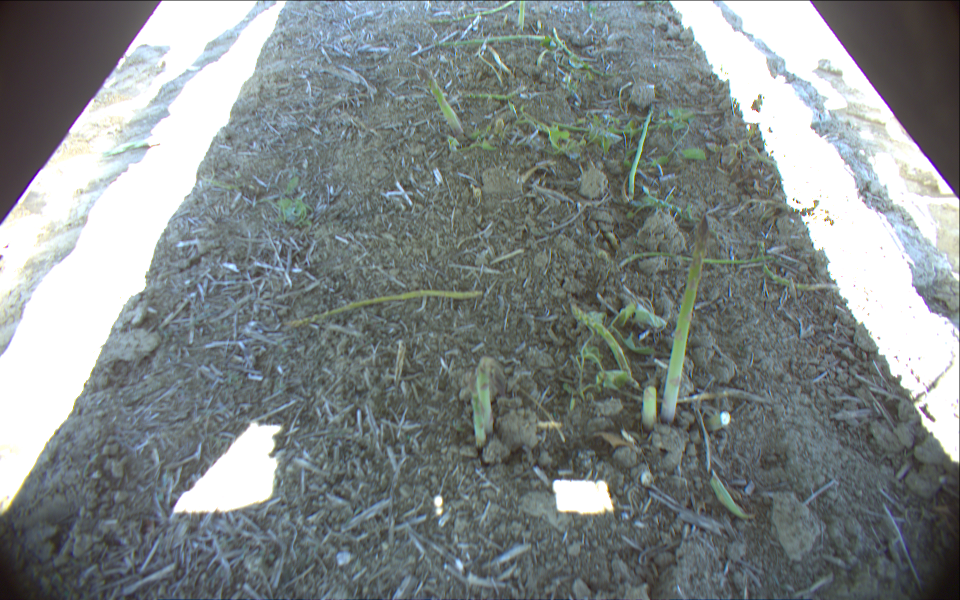aspa: (658, 215, 710, 427), (414, 60, 467, 148), (472, 358, 499, 436), (463, 388, 489, 450), (639, 384, 659, 433)
